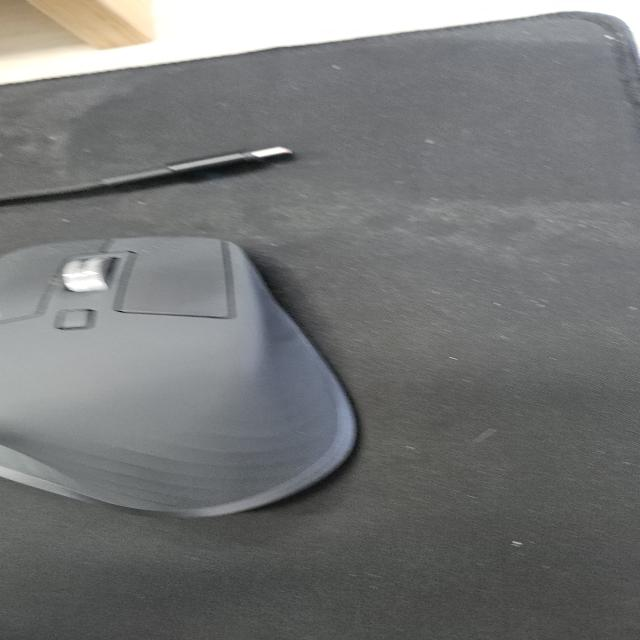Mouse: (1, 234, 362, 518)
